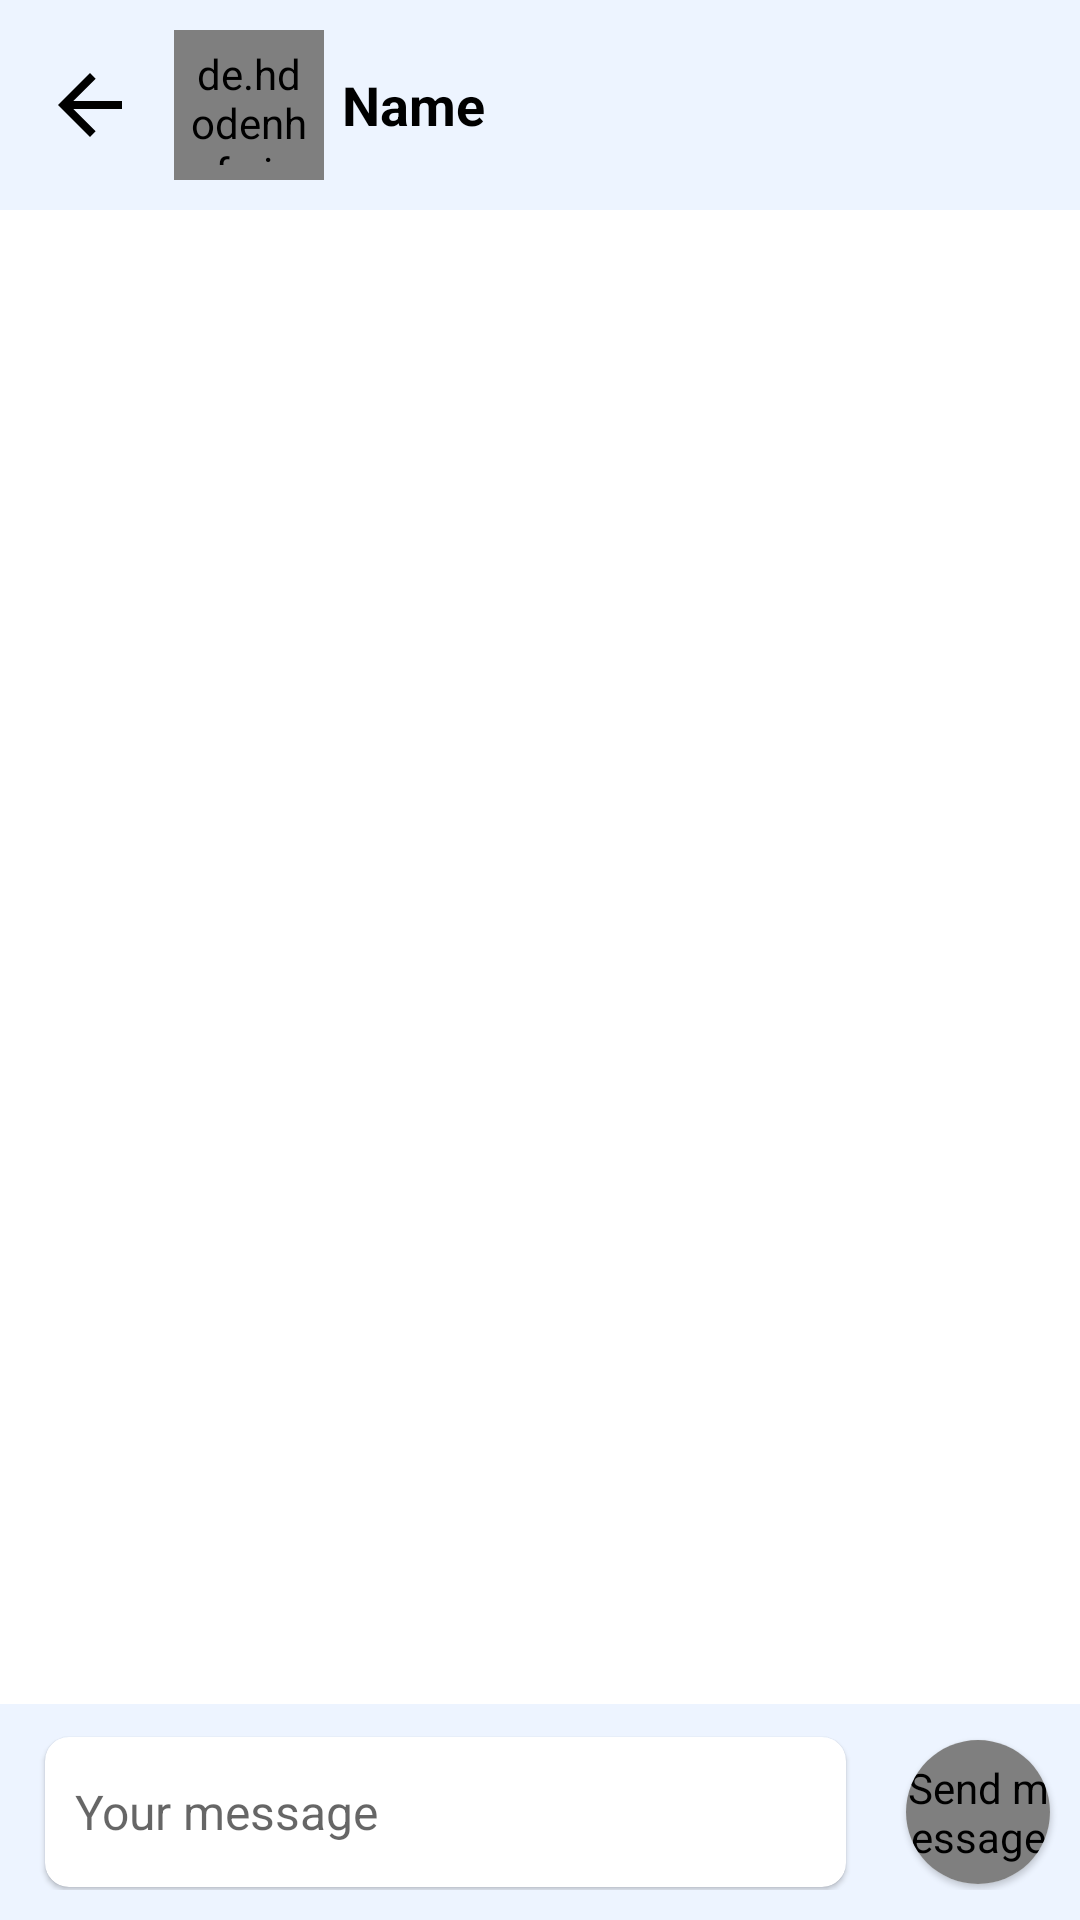

Where icons sit on this 1080*1920 app screen, as BBox(x1, y1, x2, y2):
Back button: BBox(58, 73, 122, 137)
